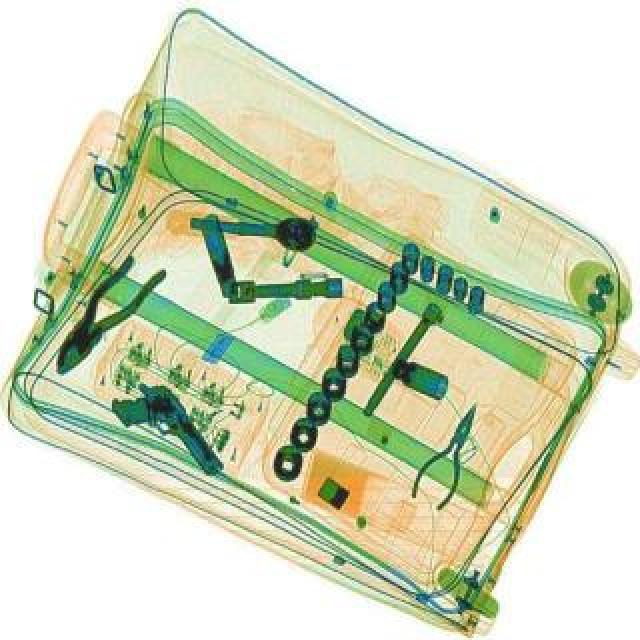gun: (106, 368, 226, 496)
wrench: (36, 244, 168, 386), (402, 394, 494, 512)
